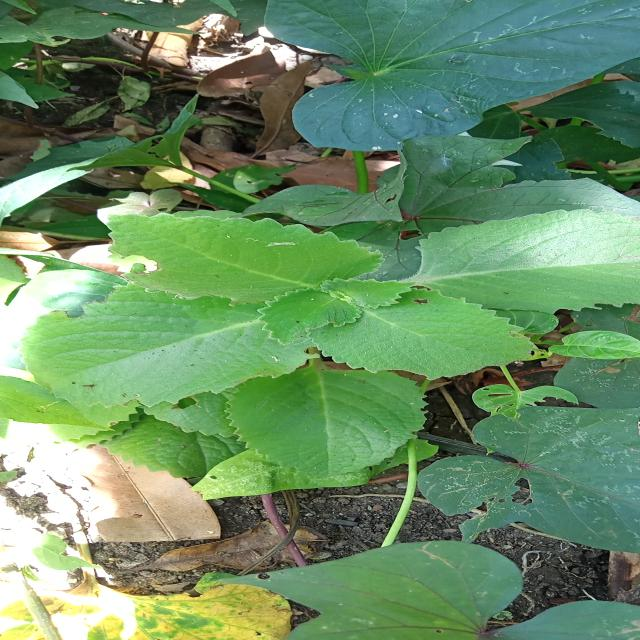Oregano: (55, 203, 640, 449)
